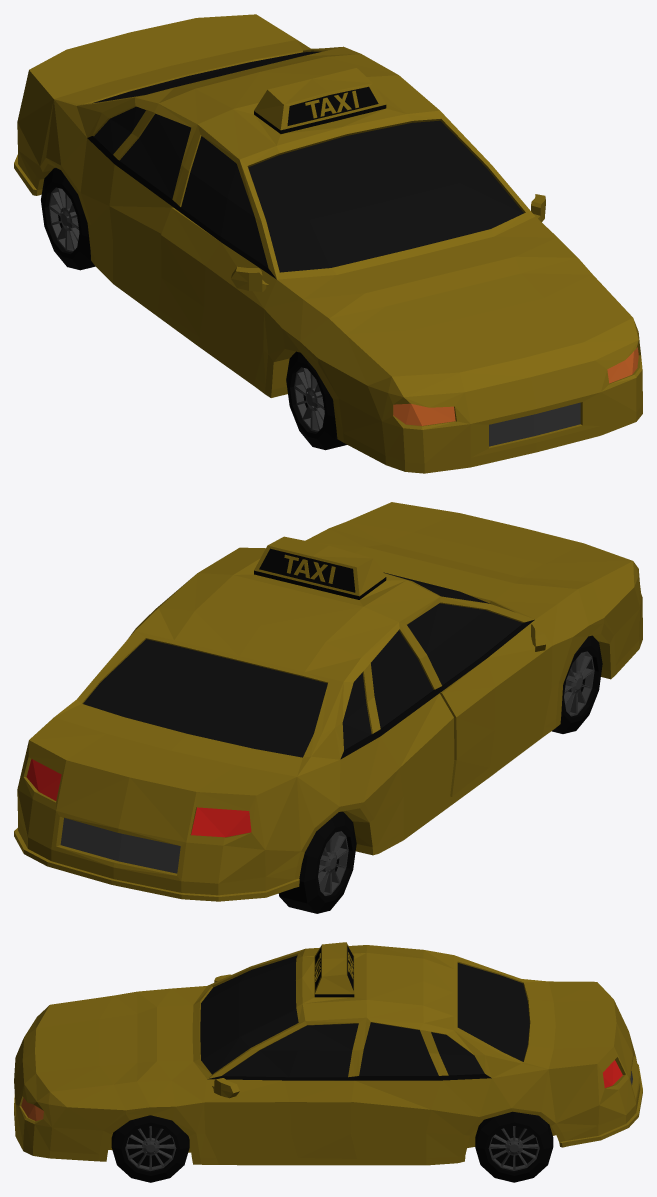
Rendered from Taxi.obj.
The picture shows the model from 3 angles, top to bottom: view 1: azimuth 30°, elevation 25°; view 2: azimuth 150°, elevation 25°; view 3: azimuth 270°, elevation 25°; orthographic projection. The views are drawn at different scales.
Visible parts, largest first — view 1: Taxi, Taxi_BackWheels, Taxi_FrontRightWheel; view 2: Taxi, Taxi_BackWheels, Taxi_FrontRightWheel; view 3: Taxi, Taxi_BackWheels, Taxi_FrontLeftWheel.
Part boxes in pixels (x1,y1,x2,y2): Taxi: [14, 14, 642, 473]; Taxi_BackWheels: [41, 168, 95, 270]; Taxi_FrontRightWheel: [286, 351, 346, 450]; Taxi: [14, 502, 642, 901]; Taxi_BackWheels: [278, 811, 356, 913]; Taxi_FrontRightWheel: [552, 635, 602, 733]; Taxi: [14, 942, 642, 1165]; Taxi_BackWheels: [475, 1111, 553, 1182]; Taxi_FrontLeftWheel: [111, 1115, 189, 1182].
Bounding box in the file's own units: 1.81 × 1.31 × 4.22.
